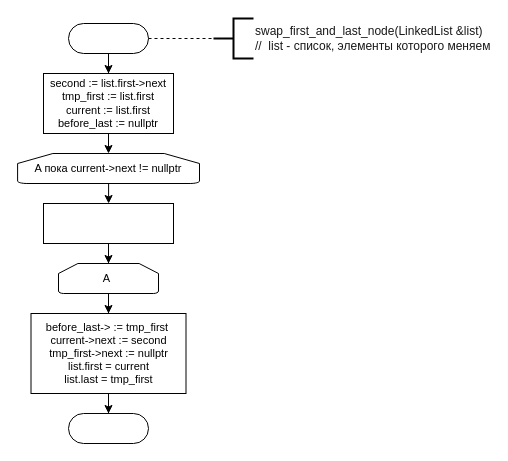
Some shapes in this 508 by 461 pixel diagram are drawn without their labels. The centre of each missing label's shape, as x and y in pixels:
before_last := current current := current->next: the point at 108,223
Конец: the point at 108,428
Начало: the point at 108,38
